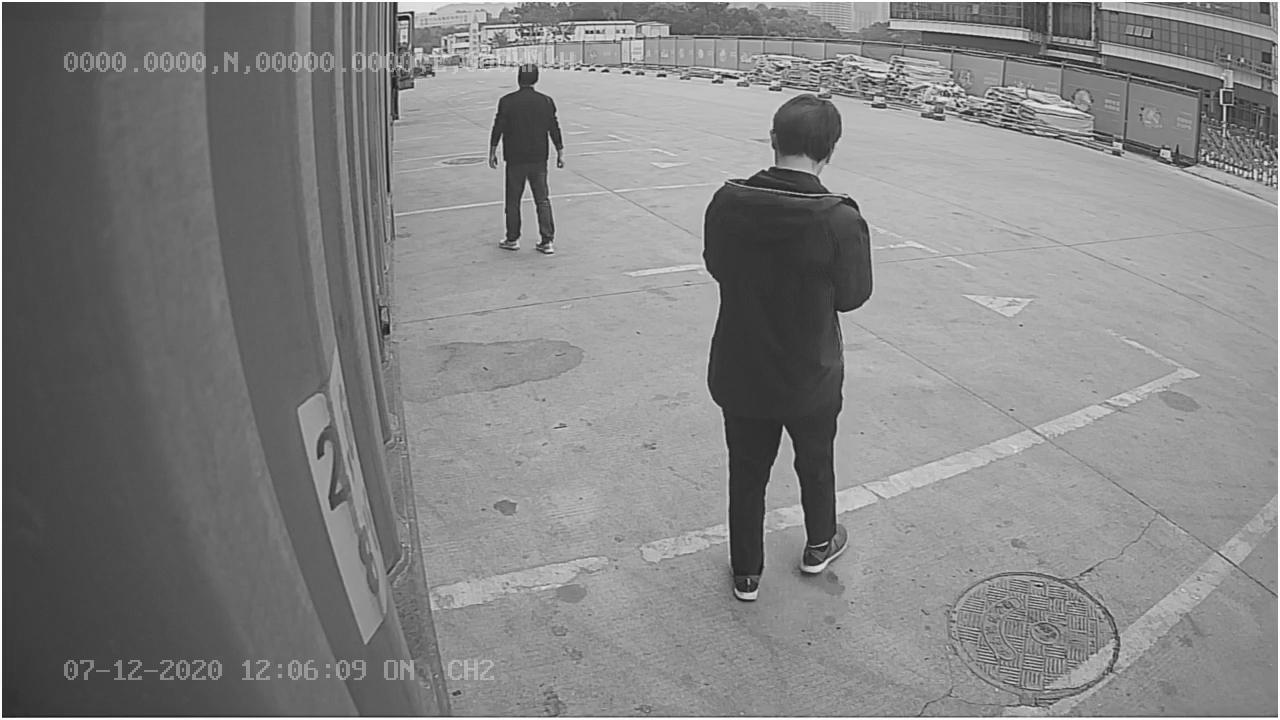person: (696, 85, 881, 599)
